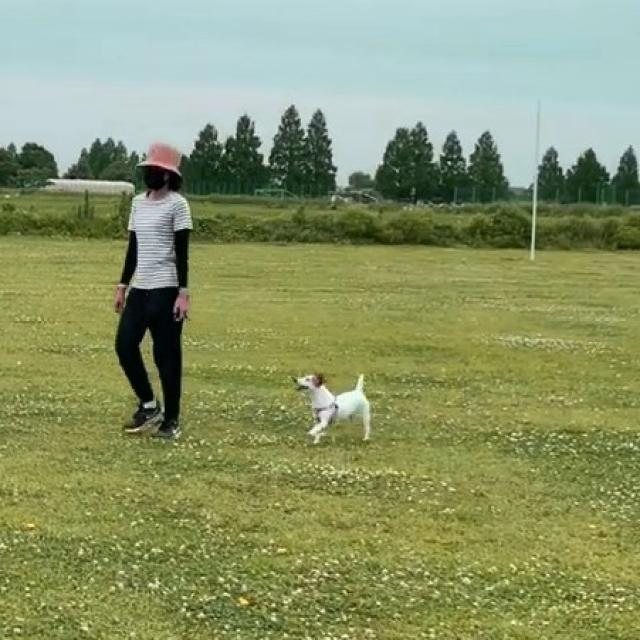Unleashed_Dog: (134, 290, 371, 443)
